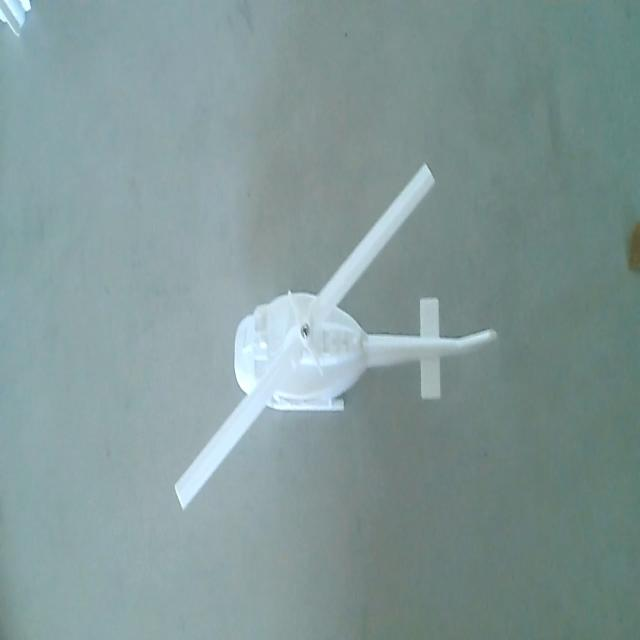Helicopter: (175, 160, 500, 542)
